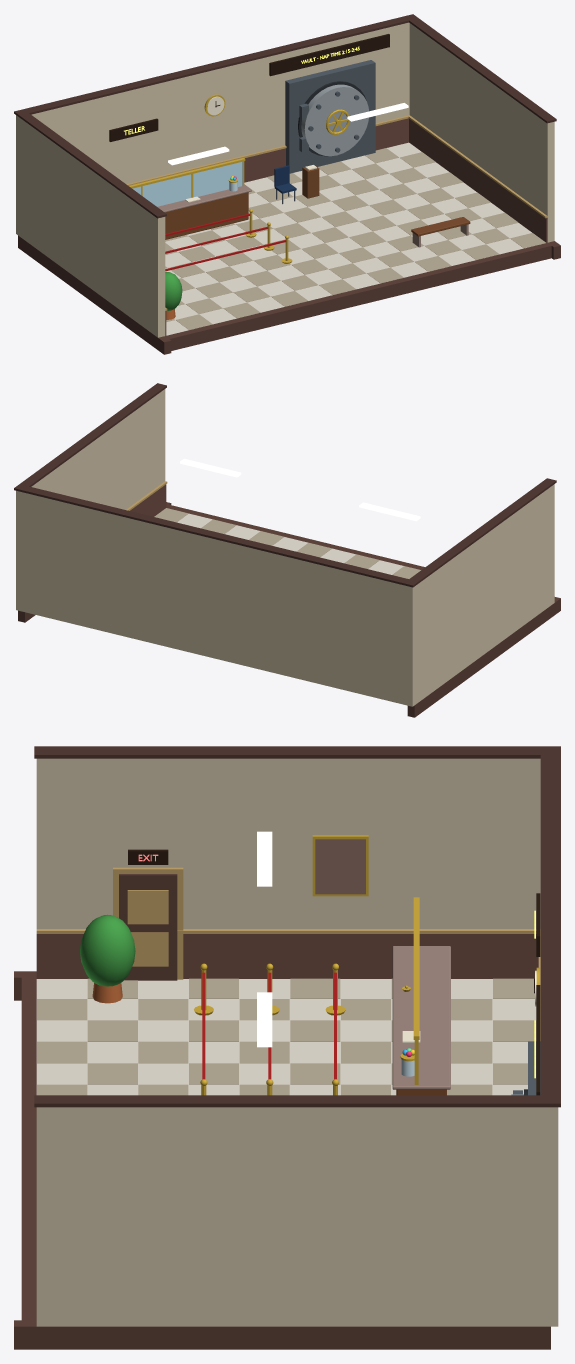
The model's file is heist_bankint.glb.
The picture shows the model from 3 angles, top to bottom: view 1: azimuth 30°, elevation 25°; view 2: azimuth 150°, elevation 25°; view 3: azimuth 270°, elevation 25°; orthographic projection. The views are drawn at different scales.
Parts seen in each view (by area): view 1: HeistBankInt_static, VaultDoor; view 2: HeistBankInt_static; view 3: HeistBankInt_static.
Boxes of the visible parts, box(x1,y1,x2,y2) form: HeistBankInt_static: box(14, 14, 560, 354); VaultDoor: box(299, 84, 368, 156); HeistBankInt_static: box(14, 383, 560, 717); HeistBankInt_static: box(14, 746, 560, 1349).
Bounding box in the file's own units: 16.7 × 5.38 × 10.8.
